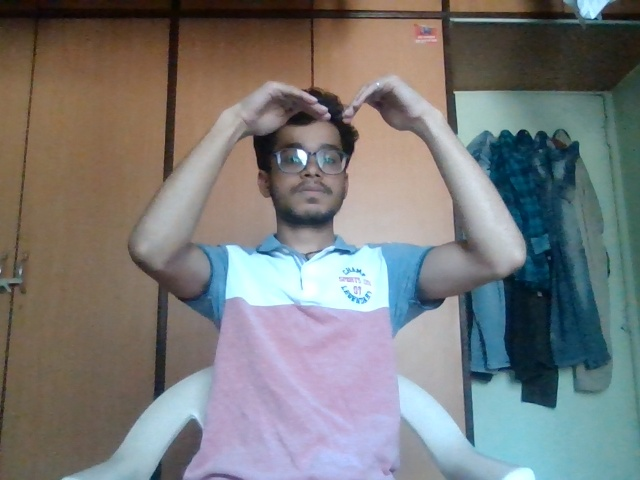we: (198, 69, 454, 166)
